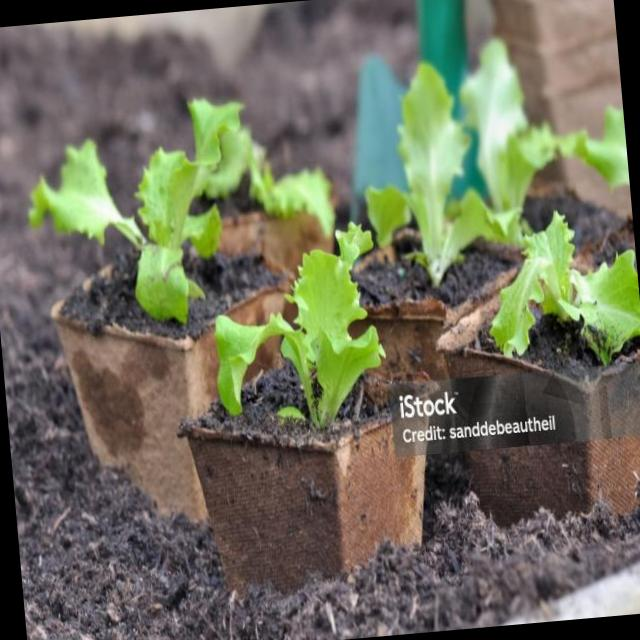Lettuce-Not-Ready-to-Harvest: (30, 98, 252, 325), (214, 221, 385, 426), (364, 62, 504, 287), (489, 212, 640, 365), (459, 38, 560, 237), (252, 164, 336, 240)
